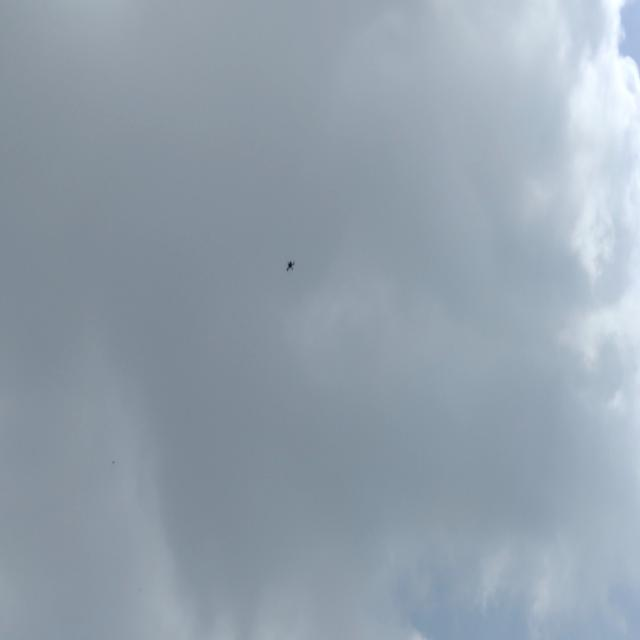drone: (284, 252, 297, 277)
